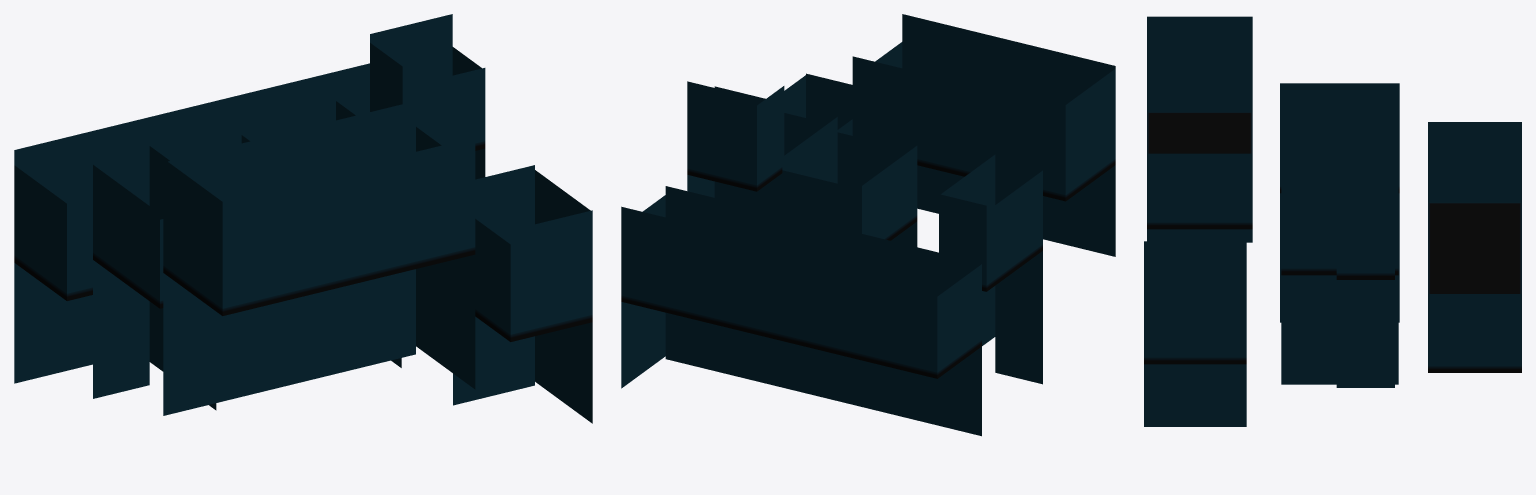
Rendered from floor_c.glb.
The picture shows the model from 3 angles, left to right: view 1: azimuth 30°, elevation 25°; view 2: azimuth 150°, elevation 25°; view 3: azimuth 270°, elevation 25°; orthographic projection. The views are drawn at different scales.
Visible parts, largest first — view 1: floor_skirt, tiles; view 2: floor_skirt, tiles; view 3: floor_skirt, tiles.
Boxes of the visible parts, x1,y1,x2,y2 form: floor_skirt: (14, 14, 592, 423); tiles: (14, 141, 592, 341); floor_skirt: (621, 14, 1115, 436); tiles: (621, 159, 1115, 378); floor_skirt: (1144, 16, 1521, 426); tiles: (1144, 112, 1521, 372).
Bounding box in the file's own units: 1.59 × 1.37 × 1.54.
